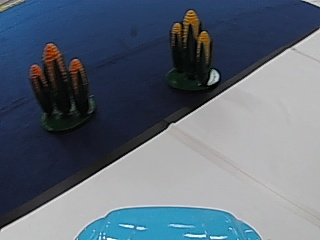corn: (29, 41, 94, 130), (165, 6, 219, 92)
